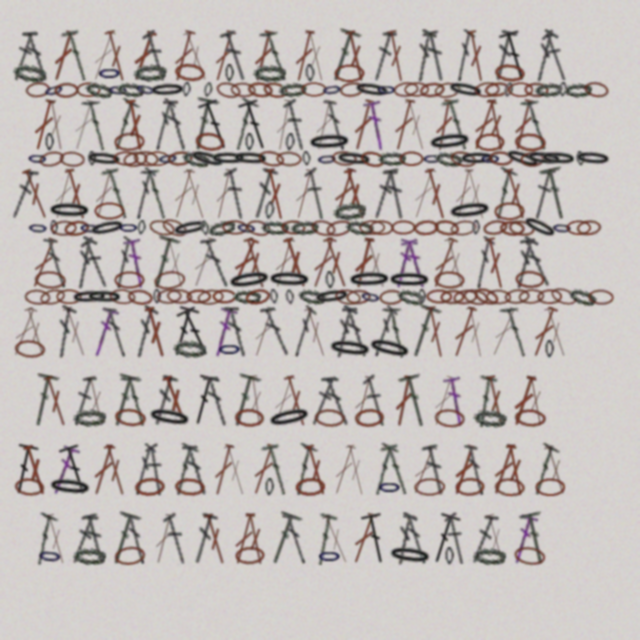chain: (366, 335, 413, 362), (266, 404, 313, 431), (146, 405, 193, 430), (520, 213, 559, 242), (226, 268, 273, 292), (427, 130, 473, 153), (447, 199, 493, 222), (327, 337, 373, 360), (387, 544, 433, 567), (503, 146, 542, 172), (47, 476, 93, 498), (188, 147, 227, 171), (307, 132, 352, 152), (446, 79, 485, 101), (88, 217, 127, 239), (171, 217, 210, 239), (47, 201, 92, 220), (267, 270, 312, 289), (347, 270, 392, 289), (387, 271, 432, 289), (12, 62, 47, 84), (332, 200, 367, 222), (353, 80, 391, 100), (153, 269, 186, 291), (513, 545, 546, 567), (525, 149, 563, 168), (313, 287, 351, 306), (133, 62, 167, 83), (160, 216, 189, 240), (85, 150, 123, 168), (335, 150, 373, 168), (206, 217, 237, 239), (567, 286, 598, 308), (473, 408, 507, 428), (194, 131, 226, 152), (114, 407, 146, 428), (114, 545, 146, 566), (549, 285, 578, 308), (174, 62, 205, 83), (574, 150, 612, 167), (472, 285, 500, 308), (514, 132, 546, 152), (34, 270, 66, 290), (14, 339, 46, 359), (514, 408, 546, 428), (232, 150, 269, 167), (540, 150, 577, 167), (173, 339, 206, 358), (73, 408, 106, 427), (494, 63, 525, 83), (314, 408, 345, 428), (434, 408, 465, 428), (14, 477, 45, 497), (174, 477, 205, 497), (494, 477, 525, 497), (84, 80, 114, 100), (181, 149, 211, 169), (396, 287, 426, 307), (253, 64, 286, 82), (73, 547, 106, 565), (473, 547, 506, 565), (149, 82, 186, 98), (71, 289, 108, 305), (86, 289, 123, 305), (114, 132, 145, 151), (234, 408, 265, 427), (354, 408, 385, 427), (134, 477, 165, 496), (515, 270, 545, 289), (297, 287, 327, 306), (295, 477, 325, 496), (455, 477, 485, 496), (235, 546, 265, 565), (449, 149, 477, 169), (148, 218, 176, 238), (325, 218, 353, 238), (334, 64, 365, 82), (94, 202, 125, 220), (494, 202, 525, 220), (114, 271, 145, 289), (434, 271, 465, 289), (414, 478, 445, 496), (210, 151, 247, 166), (459, 151, 496, 166), (215, 80, 242, 100), (262, 80, 289, 100), (475, 133, 505, 151), (38, 149, 65, 169), (359, 149, 386, 169), (245, 218, 272, 238), (310, 218, 337, 238), (39, 287, 66, 307), (462, 287, 489, 307), (535, 478, 565, 496), (257, 149, 285, 168), (434, 150, 463, 168), (37, 546, 63, 566), (583, 80, 610, 99), (433, 218, 460, 237), (482, 218, 509, 237), (244, 287, 271, 306), (334, 288, 362, 306), (116, 81, 145, 98), (278, 81, 307, 98), (534, 81, 563, 98), (290, 219, 319, 236), (345, 219, 374, 236), (434, 81, 461, 99), (122, 150, 149, 168), (63, 219, 90, 237), (450, 219, 477, 237), (508, 219, 535, 237), (197, 288, 224, 306), (452, 288, 479, 306), (42, 80, 66, 100), (419, 81, 445, 99), (127, 288, 153, 306), (109, 288, 136, 305), (166, 288, 193, 305), (518, 288, 545, 305), (97, 64, 122, 82), (217, 340, 242, 358), (377, 478, 402, 496), (317, 547, 342, 565), (564, 82, 592, 98), (25, 81, 51, 98), (247, 81, 273, 98), (339, 81, 365, 98), (393, 81, 419, 98), (474, 81, 500, 98), (484, 81, 510, 98), (133, 150, 159, 167), (167, 150, 193, 167), (331, 150, 357, 167), (488, 150, 514, 167), (413, 219, 439, 236), (576, 219, 602, 236), (156, 288, 182, 305), (504, 288, 530, 305), (134, 80, 157, 99), (24, 289, 51, 305), (378, 151, 406, 166), (261, 220, 289, 235), (233, 289, 261, 304), (230, 82, 256, 98), (59, 151, 85, 167), (276, 151, 302, 167), (51, 220, 77, 236), (499, 220, 525, 236), (588, 289, 614, 305), (235, 219, 258, 237), (359, 288, 382, 306), (54, 82, 79, 98), (524, 82, 549, 98), (520, 151, 545, 167), (346, 289, 371, 305), (379, 289, 404, 305), (440, 289, 465, 305), (486, 289, 511, 305), (301, 82, 327, 97), (113, 151, 139, 166), (144, 151, 170, 166), (222, 220, 248, 235), (359, 220, 385, 235), (56, 289, 82, 304), (426, 289, 452, 304), (76, 82, 101, 97), (404, 82, 429, 97), (508, 82, 533, 97), (399, 151, 424, 166), (281, 220, 306, 235), (369, 220, 394, 235), (391, 220, 416, 235), (566, 220, 591, 235), (186, 289, 211, 304), (212, 289, 237, 304), (537, 289, 562, 304), (321, 81, 343, 98), (157, 150, 179, 167), (107, 82, 129, 98), (316, 151, 338, 167), (27, 220, 49, 236), (551, 220, 573, 236), (79, 220, 100, 236), (376, 82, 397, 97), (27, 151, 48, 166), (422, 151, 443, 166), (480, 151, 501, 166), (118, 220, 139, 235), (264, 201, 275, 220), (305, 64, 315, 82), (285, 133, 295, 151), (325, 271, 335, 289), (503, 82, 514, 98), (225, 64, 234, 82), (45, 133, 54, 151), (245, 133, 254, 151), (545, 340, 554, 358), (265, 478, 274, 496), (445, 547, 454, 565), (203, 82, 213, 98), (200, 220, 210, 236), (285, 289, 295, 305), (269, 289, 279, 304), (182, 82, 191, 97), (302, 151, 311, 166), (576, 151, 585, 166), (137, 220, 146, 235), (559, 82, 567, 97), (88, 151, 96, 166), (50, 220, 58, 235), (472, 220, 480, 235), (153, 289, 161, 304), (418, 289, 426, 304)
double: (175, 304, 217, 360), (264, 511, 303, 567), (197, 97, 235, 153), (325, 28, 362, 84), (237, 97, 274, 153), (405, 304, 442, 360), (105, 511, 142, 567), (106, 373, 142, 429), (226, 373, 262, 429), (58, 442, 94, 498), (426, 511, 462, 567), (498, 28, 533, 84), (146, 235, 181, 291), (166, 304, 201, 360), (398, 373, 433, 429), (226, 236, 262, 290), (486, 305, 522, 359), (318, 512, 354, 566), (158, 373, 193, 428), (18, 167, 53, 221), (26, 236, 61, 290), (107, 97, 141, 152), (539, 166, 573, 221), (187, 235, 221, 290), (319, 235, 353, 290), (187, 373, 221, 428), (527, 442, 561, 497), (347, 511, 381, 566), (179, 29, 213, 83), (427, 236, 461, 290), (7, 305, 41, 359), (527, 305, 561, 359), (47, 443, 81, 497), (407, 443, 441, 497), (259, 28, 292, 83), (187, 97, 220, 152), (407, 166, 440, 221), (279, 235, 312, 290), (59, 304, 92, 359), (499, 304, 532, 359), (27, 373, 60, 428), (247, 442, 280, 497), (367, 442, 400, 497), (379, 442, 412, 497), (487, 442, 520, 497), (519, 511, 552, 566), (87, 29, 120, 83), (219, 29, 252, 83), (307, 236, 340, 290), (228, 97, 260, 152), (440, 97, 472, 152), (520, 97, 552, 152), (100, 166, 132, 221), (140, 166, 172, 221), (328, 166, 360, 221), (8, 442, 40, 497), (168, 442, 200, 497), (360, 511, 392, 566), (79, 236, 112, 289), (128, 29, 160, 83), (68, 98, 100, 152), (468, 98, 500, 152), (360, 236, 392, 290), (88, 305, 120, 359), (248, 305, 280, 359), (300, 305, 332, 359), (448, 305, 480, 359), (540, 305, 572, 359), (40, 374, 72, 428), (280, 374, 312, 428), (508, 374, 540, 428), (328, 443, 360, 497), (448, 443, 480, 497), (540, 443, 572, 497), (60, 28, 91, 83), (488, 166, 519, 221), (120, 373, 151, 428), (260, 442, 291, 497), (288, 442, 319, 497), (520, 236, 552, 289), (48, 29, 79, 83), (168, 29, 199, 83), (168, 167, 199, 221), (180, 167, 211, 221), (340, 167, 371, 221), (500, 167, 531, 221), (200, 236, 231, 290), (240, 236, 271, 290), (400, 236, 431, 290), (440, 236, 471, 290), (20, 305, 51, 359), (268, 374, 299, 428), (428, 374, 459, 428), (20, 443, 51, 497), (88, 443, 119, 497), (100, 443, 131, 497), (220, 443, 251, 497), (200, 512, 231, 566), (508, 512, 539, 566), (540, 29, 571, 82), (8, 167, 39, 220), (260, 305, 291, 358), (308, 374, 339, 427), (68, 512, 99, 565), (468, 512, 499, 565), (101, 29, 131, 83), (209, 29, 239, 83), (529, 29, 559, 83), (29, 98, 59, 152), (81, 98, 111, 152), (389, 98, 419, 152), (401, 98, 431, 152), (61, 167, 91, 221), (89, 167, 119, 221), (249, 167, 279, 221), (289, 167, 319, 221), (421, 167, 451, 221), (461, 167, 491, 221), (269, 236, 299, 290), (509, 236, 539, 290), (129, 305, 159, 359), (141, 305, 171, 359), (149, 374, 179, 428), (321, 374, 351, 428), (301, 443, 331, 497), (29, 512, 59, 566), (41, 512, 71, 566), (149, 512, 179, 566), (189, 512, 219, 566), (229, 512, 259, 566), (481, 512, 511, 566), (369, 305, 399, 358), (249, 29, 278, 83), (301, 29, 330, 83), (341, 29, 370, 83), (349, 98, 378, 152), (509, 98, 538, 152), (49, 167, 78, 221), (261, 167, 290, 221), (161, 236, 190, 290), (481, 236, 510, 290), (209, 305, 238, 359), (329, 305, 358, 359), (349, 374, 378, 428), (209, 443, 238, 497), (421, 443, 450, 497), (81, 512, 110, 566), (309, 512, 338, 566), (141, 29, 170, 82), (289, 305, 318, 358), (361, 374, 390, 427), (22, 29, 50, 83), (290, 29, 318, 83), (422, 29, 450, 83), (490, 29, 518, 83), (310, 98, 338, 152), (210, 167, 238, 221), (382, 167, 410, 221), (70, 236, 98, 290), (350, 236, 378, 290), (390, 236, 418, 290), (382, 305, 410, 359), (82, 374, 110, 428), (470, 374, 498, 428), (482, 374, 510, 428), (342, 443, 370, 497), (390, 512, 418, 566), (10, 29, 38, 82), (370, 167, 398, 220), (162, 512, 190, 565), (410, 29, 437, 83), (122, 98, 149, 152), (450, 167, 477, 221), (342, 305, 369, 359), (422, 305, 449, 359), (462, 305, 489, 359), (522, 374, 549, 428), (182, 443, 209, 497), (502, 443, 529, 497), (242, 512, 269, 566), (370, 29, 397, 82), (150, 98, 177, 151), (282, 98, 309, 151), (70, 374, 97, 427), (130, 443, 157, 496), (282, 512, 309, 565), (383, 29, 409, 83), (463, 29, 489, 83), (43, 98, 69, 152), (271, 98, 297, 152), (363, 98, 389, 152), (431, 98, 457, 152), (483, 98, 509, 152), (123, 236, 149, 290), (51, 305, 77, 359), (203, 374, 229, 428), (391, 374, 417, 428), (131, 167, 157, 220), (303, 167, 329, 220), (43, 236, 69, 289), (103, 305, 129, 358), (403, 512, 429, 565), (443, 512, 469, 565), (163, 98, 188, 152), (443, 374, 468, 428), (323, 98, 348, 151), (223, 167, 248, 220), (531, 167, 556, 220), (111, 236, 136, 289), (471, 236, 496, 289), (452, 29, 476, 82), (224, 305, 248, 358), (244, 374, 268, 427), (124, 512, 148, 565), (144, 443, 167, 496), (464, 443, 487, 496)
